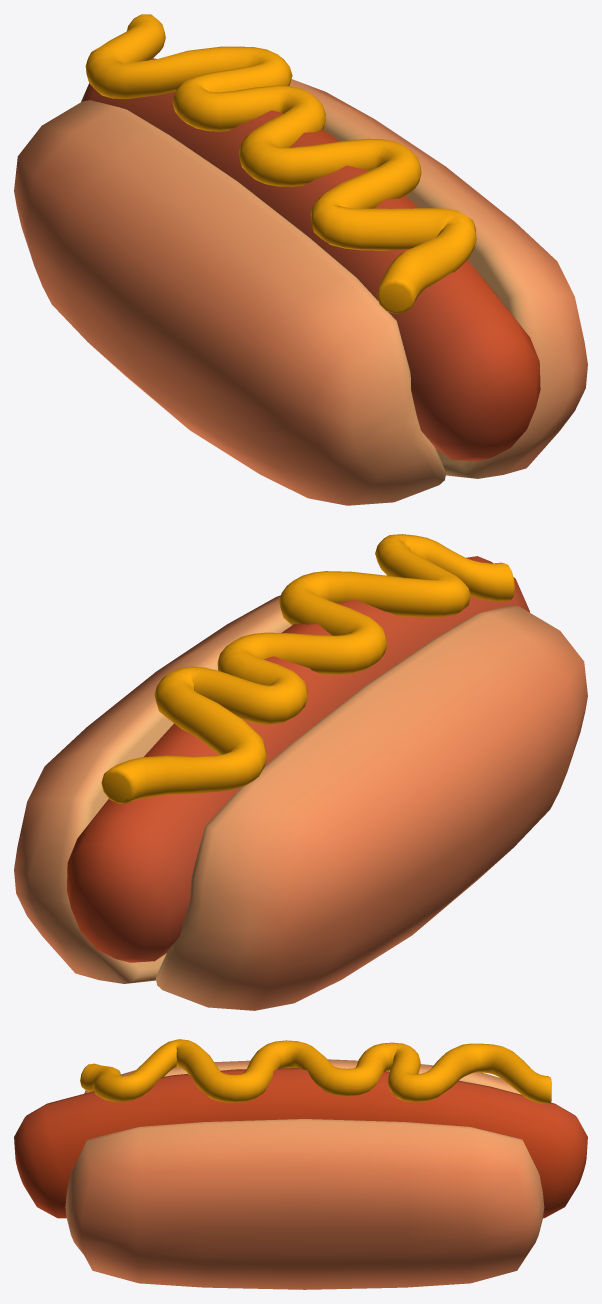
File: Hotdog_V1_00.fbx
3 views of the same model, one above another, from view 1: azimuth 30°, elevation 25°; view 2: azimuth 150°, elevation 25°; view 3: azimuth 270°, elevation 25° (orthographic). The views are drawn at different scales.
Visible parts, largest first — view 1: Hotdog_V1_00; view 2: Hotdog_V1_00; view 3: Hotdog_V1_00.
Boxes of the visible parts, box(x1,y1,x2,y2) form: Hotdog_V1_00: box(14, 14, 587, 505); Hotdog_V1_00: box(14, 534, 587, 1010); Hotdog_V1_00: box(14, 1039, 587, 1289).
Bounding box in the file's own units: 35.08 × 29.31 × 74.03.
